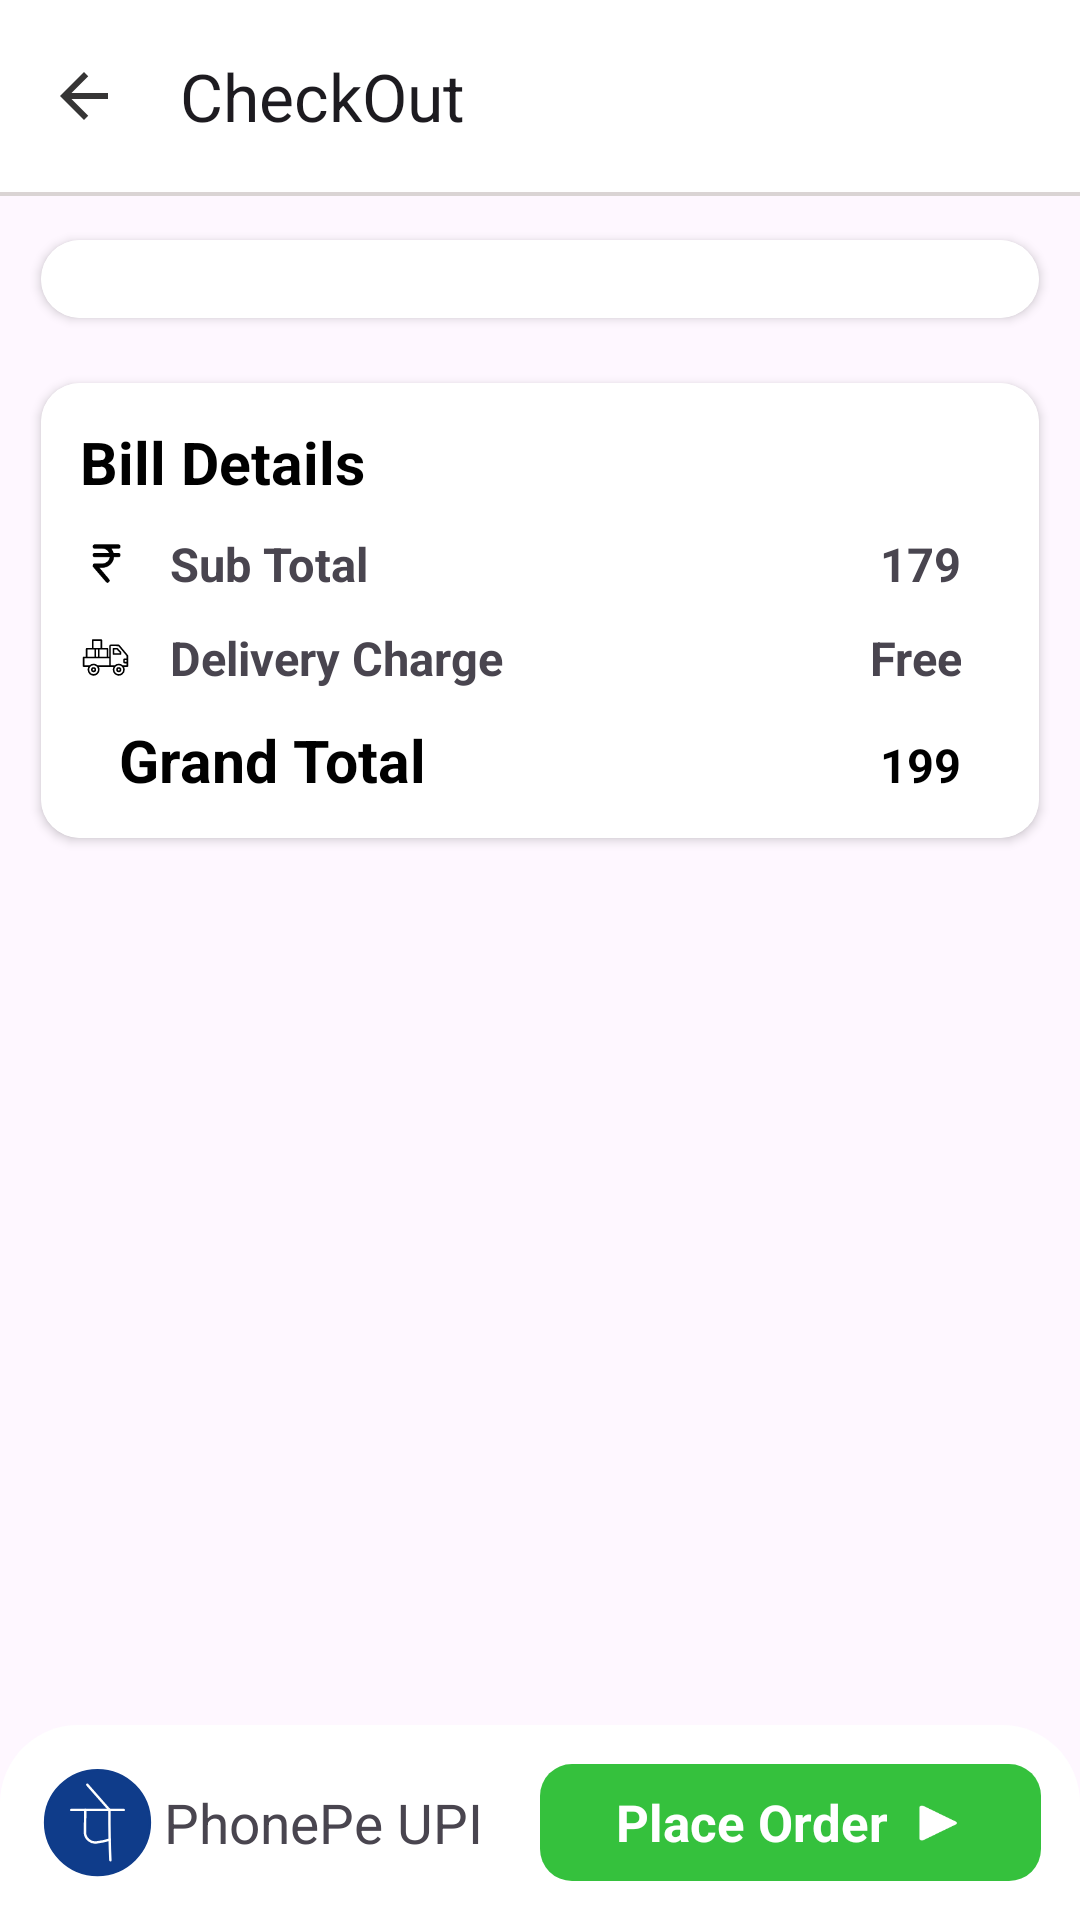

Named icons in this screenshot (1080 x 1920) and their bounding boxes, [x1=x1, y1=y1, x2=x2, y2=y2]:
del vehicle: [x1=82, y1=639, x2=129, y2=676]
right arrow: [x1=919, y1=1805, x2=957, y2=1841]
rupee: [x1=92, y1=544, x2=121, y2=583]
